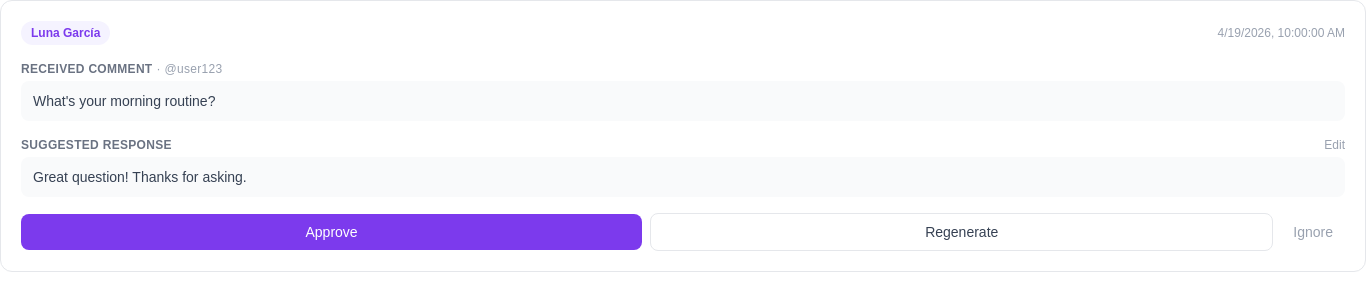
it: ApprovalCard › regenerate action › updates suggested text with regenerated response
Click the button "Regenerate" at (962, 232), box x1=650 y1=213 x2=1273 y2=251
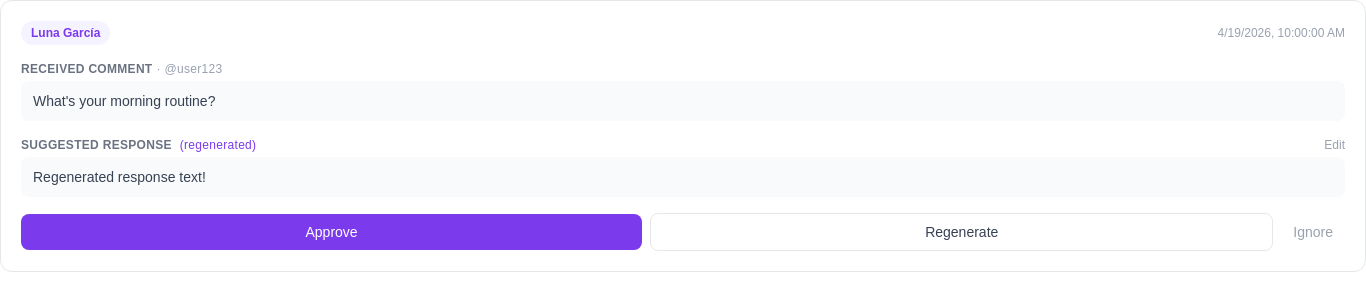
Check: the text "Regenerated response text!" is shown, box x1=21 y1=157 x2=1345 y2=197
Check: the text "(regenerated)" is shown, box x1=180 y1=138 x2=256 y2=152
